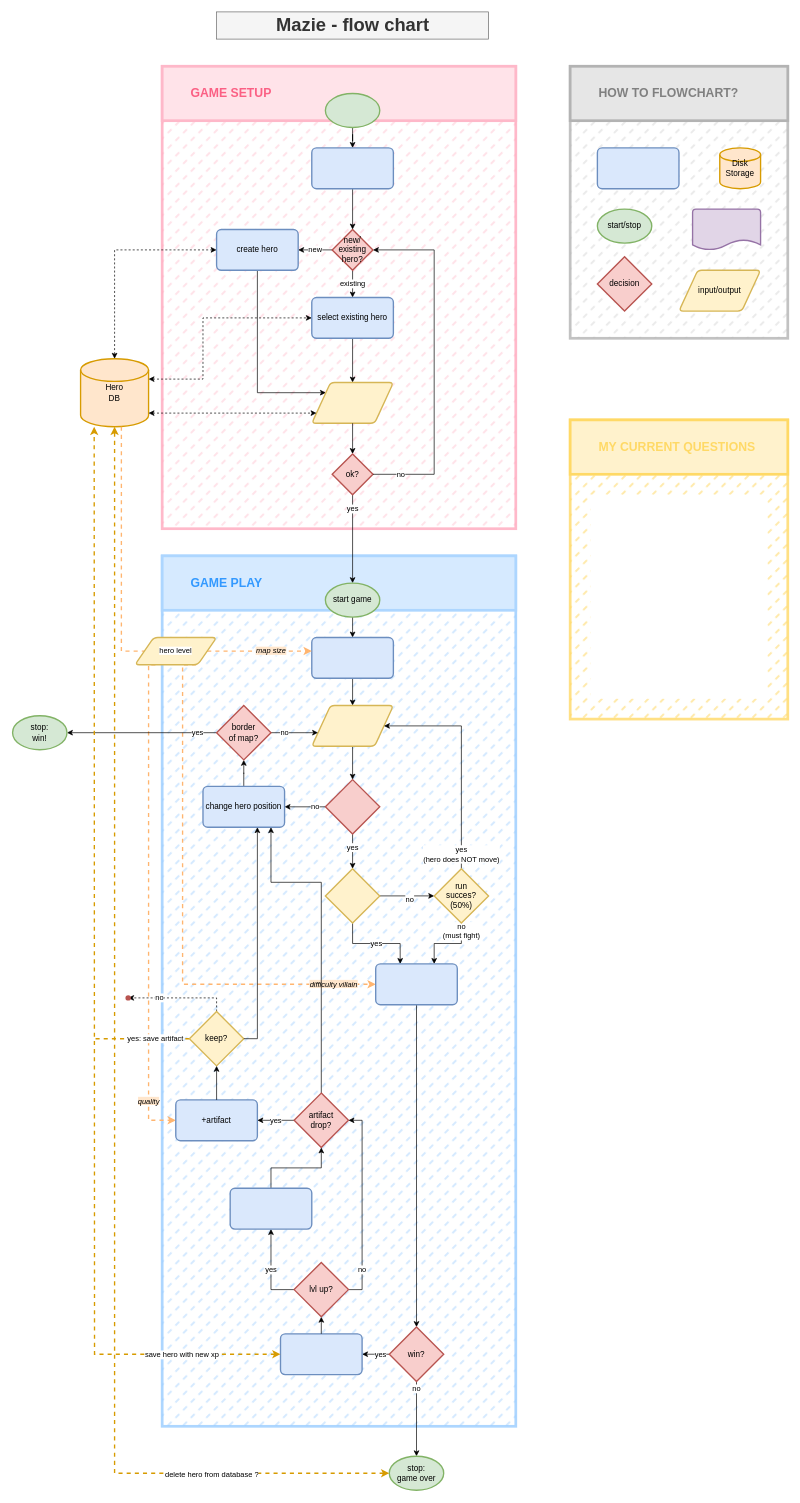
The diagram is 800 pixels wide and 1503 high, and some of its shapes have lost their labels. The centre of each missing label's shape, as x and y in pixels:
"+XP" belongs at [320,1354].
"battle simulation!" belongs at [416,984].
"create map" belongs at [352,657].
"Document" belongs at [726,229].
"fight ?" belongs at [352,895].
"process step" belongs at [637,168].
"show: lvl up! +new stats" belongs at [270,1208].
"start game menu" belongs at [352,110].
"user input direction: N, E, S, W" belongs at [352,725].
"view hero stats" belongs at [352,402].
"villain?" belongs at [352,806].
"welcome" belongs at [352,168].
"What to do after 'stop'? How to let user quit midway? ^C?" belongs at [678,596].
